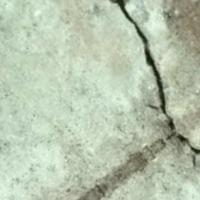crack: (108, 0, 199, 175)
